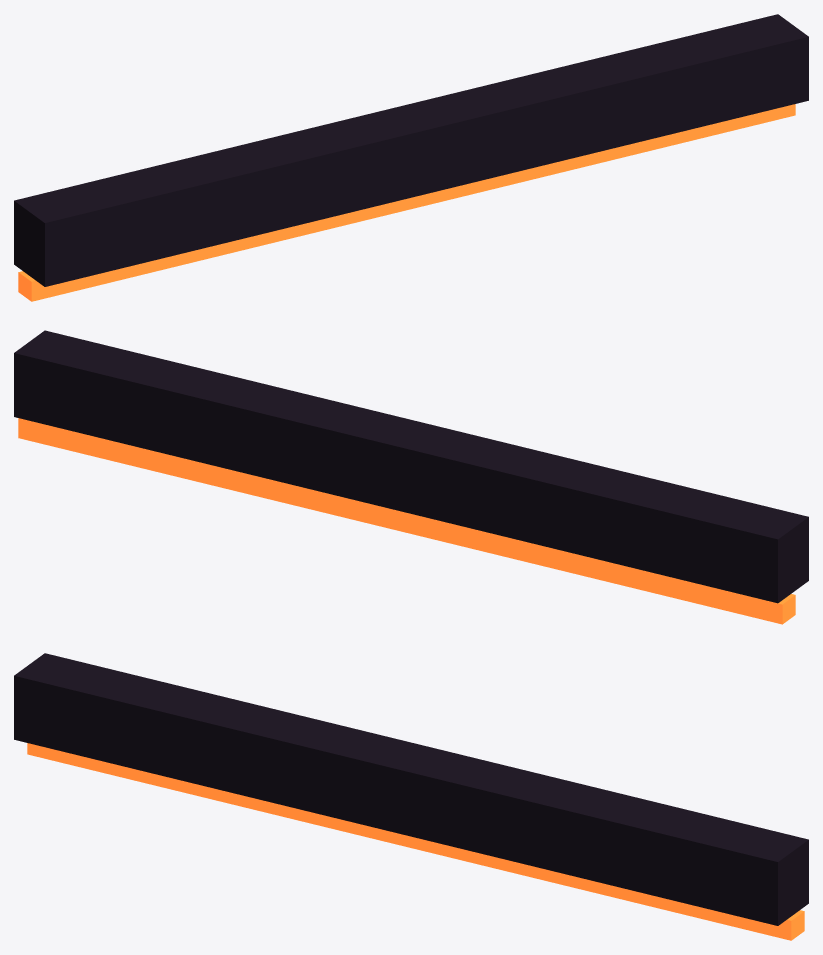
The model's file is kit_amber_coping.glb.
3 renders of one model, top to bottom at view 1: azimuth 30°, elevation 25°; view 2: azimuth 150°, elevation 25°; view 3: azimuth 330°, elevation 25°, orthographic.
Visible parts, largest first — view 1: kit_amber_coping; view 2: kit_amber_coping; view 3: kit_amber_coping.
Part boxes in pixels (bbox=[...]): kit_amber_coping: bbox=[14, 14, 808, 301]; kit_amber_coping: bbox=[14, 330, 808, 624]; kit_amber_coping: bbox=[14, 653, 808, 940].
Size of the model in its own units: 1 by 0.1105 by 0.07.
